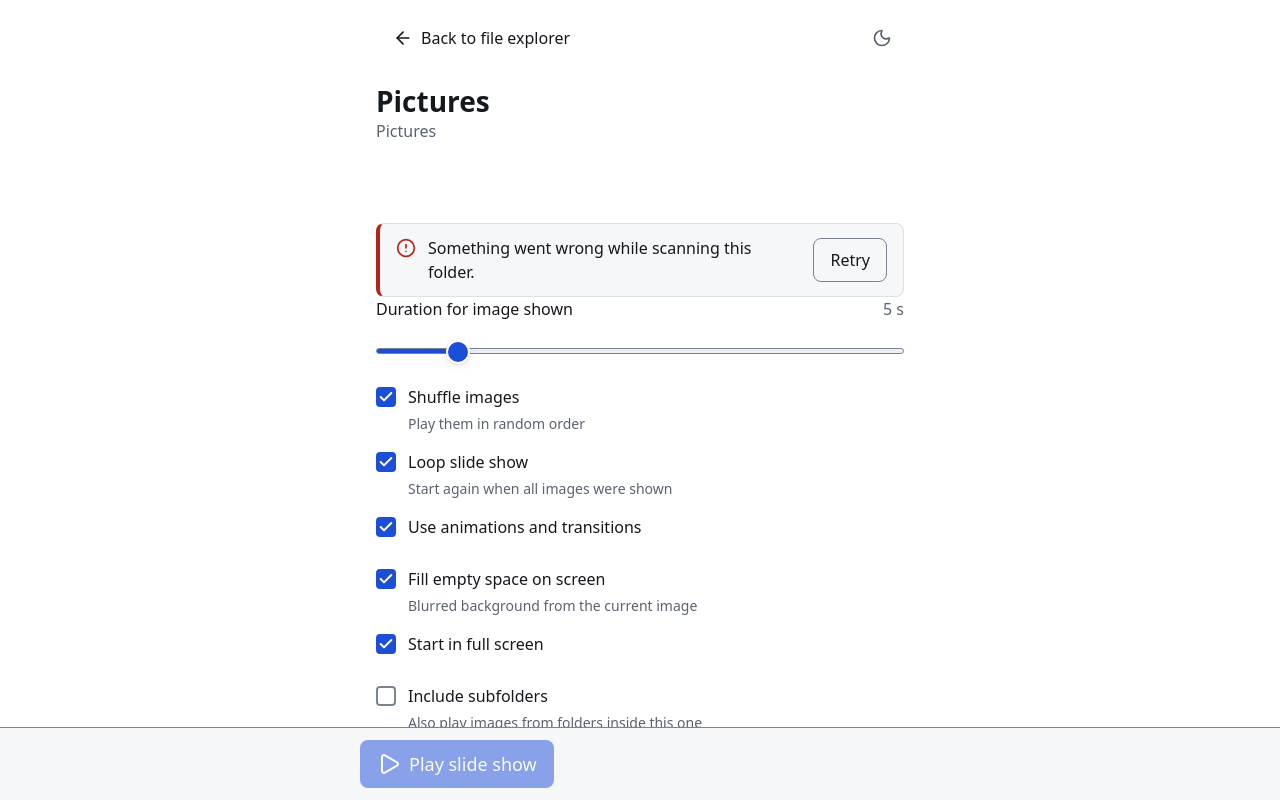
Config image scan › shows a retry action for a failed scan
The width and height of the screenshot is (1280, 800).
Check: the message "Something went wrong while scanning this folder. Retry" is shown, box [376,223,904,297]
Check: the message "Something went wrong while scanning this folder. Retry" does not show "secret server detail", box [376,223,904,297]
Click the button "Retry". click: coordinates (850, 260)
box: [814,238,887,282]
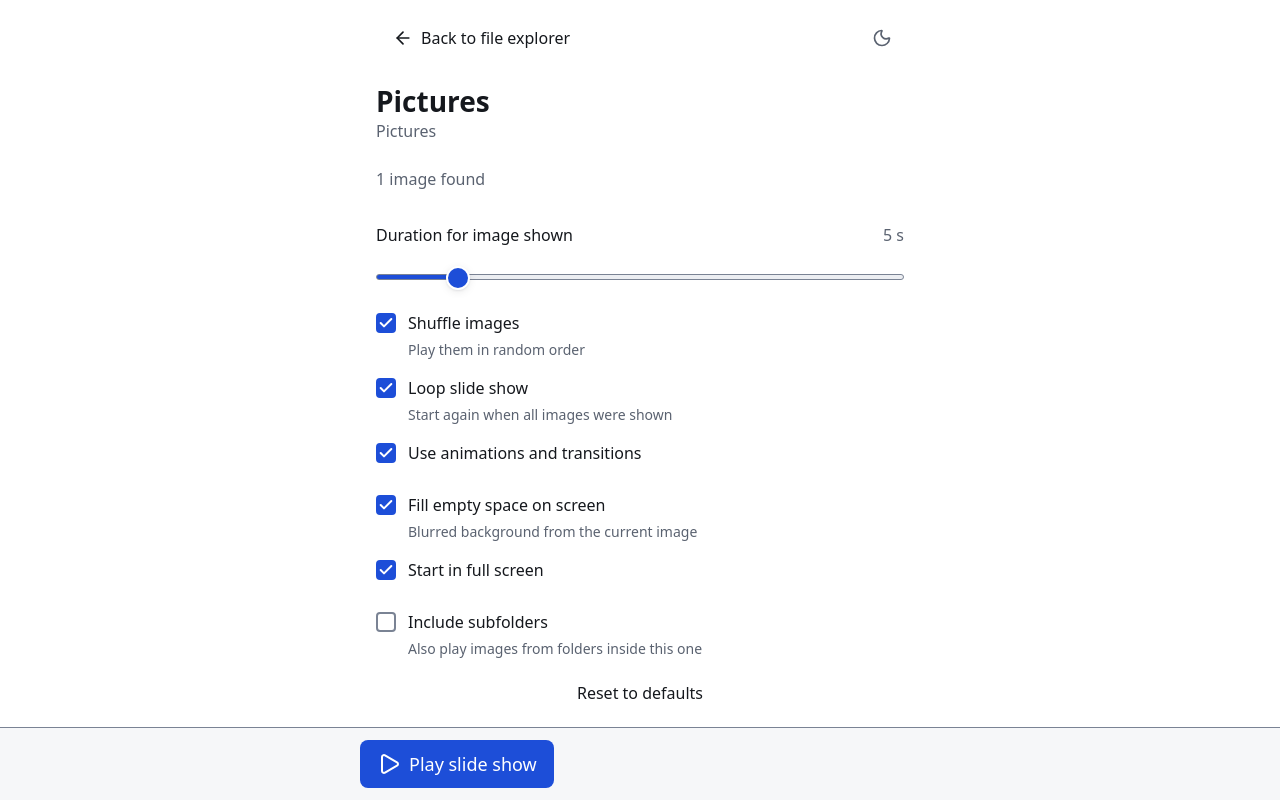
Check: the text "1 image found" is shown, box [376,168,485,190]
